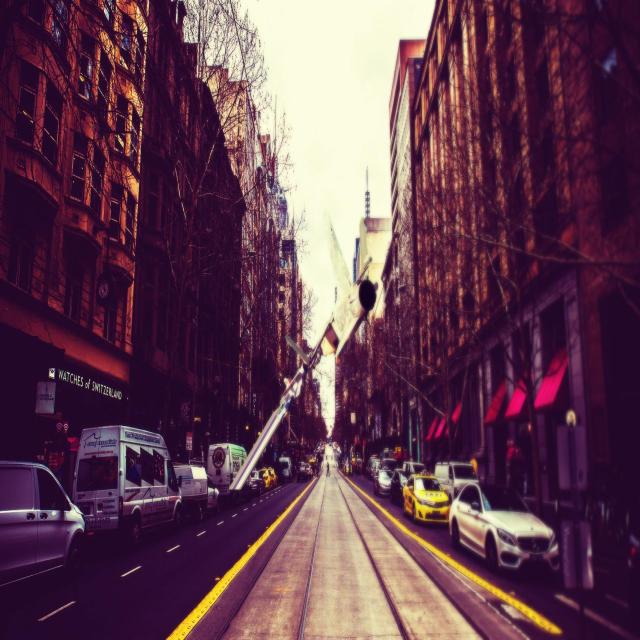airplane: (228, 210, 378, 502)
